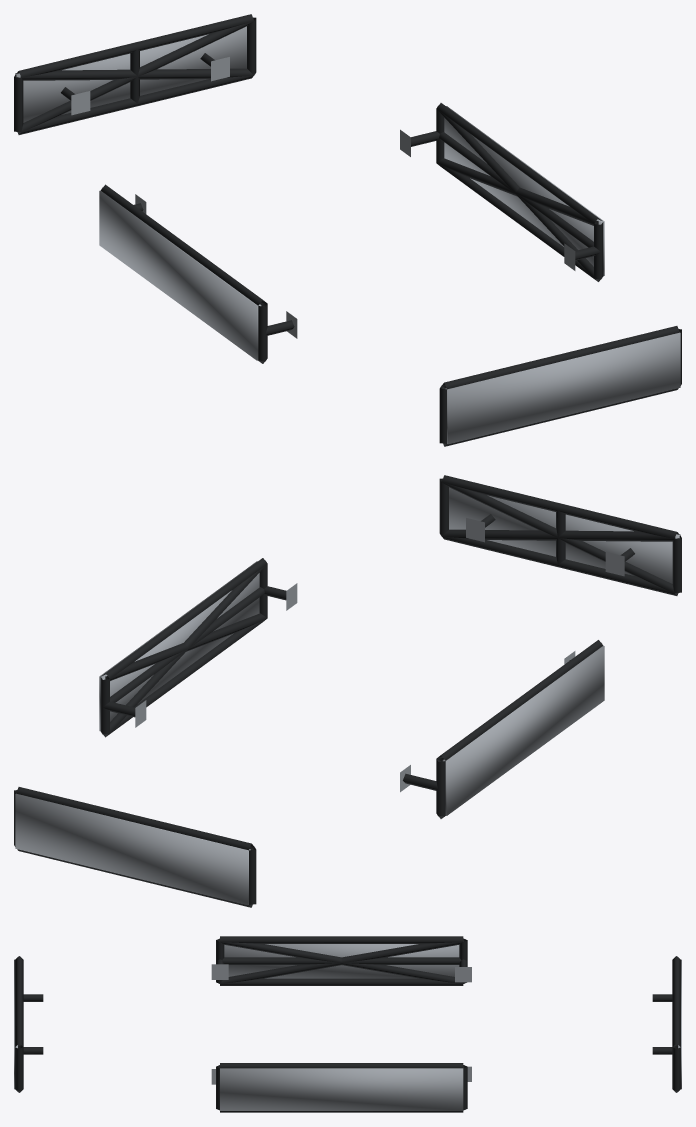
The model's file is hozuki_gaivota_protecao.glb.
3 renders of one model, top to bottom at view 1: azimuth 30°, elevation 25°; view 2: azimuth 150°, elevation 25°; view 3: azimuth 270°, elevation 25°, orthographic. The views are drawn at different scales.
Visible parts, largest first — view 1: Protection_front_Level3_Details, Protection_left_Level3_Details, Protection_rear_Level1_Details, Protection_rear_Level3_Details, Protection_right_Level1_Details, Protection_rear_Level2_Details, Protection_right_Level2_Details, Protection_right_Level3_Details, Protection_front_Level1_Details, Protection_left_Level1_Details; view 2: Protection_rear_Level3_Details, Protection_left_Level3_Details, Protection_front_Level1_Details, Protection_front_Level3_Details, Protection_right_Level1_Details, Protection_front_Level2_Details, Protection_right_Level2_Details, Protection_right_Level3_Details, Protection_rear_Level1_Details, Protection_left_Level1_Details; view 3: Protection_right_Level3_Details, Protection_left_Level2_Details, Protection_left_Level1_Details, Protection_left_Level3_Details, Protection_right_Level1_Details, Protection_rear_Level1_Details, Protection_front_Level1_Details.
Part boxes in pixels (bbox=[...]): Protection_front_Level3_Details: bbox=[445, 332, 680, 444]; Protection_left_Level3_Details: bbox=[99, 190, 261, 360]; Protection_rear_Level1_Details: bbox=[14, 14, 256, 134]; Protection_rear_Level3_Details: bbox=[15, 26, 246, 122]; Protection_right_Level1_Details: bbox=[400, 103, 603, 281]; Protection_rear_Level2_Details: bbox=[16, 21, 253, 133]; Protection_right_Level2_Details: bbox=[436, 109, 601, 281]; Protection_right_Level3_Details: bbox=[444, 106, 604, 276]; Protection_front_Level1_Details: bbox=[439, 326, 681, 446]; Protection_left_Level1_Details: bbox=[101, 184, 297, 363]; Protection_rear_Level3_Details: bbox=[15, 793, 250, 905]; Protection_left_Level3_Details: bbox=[442, 645, 604, 815]; Protection_front_Level1_Details: bbox=[439, 475, 681, 595]; Protection_front_Level3_Details: bbox=[449, 487, 680, 583]; Protection_right_Level1_Details: bbox=[100, 558, 297, 737]; Protection_front_Level2_Details: bbox=[442, 482, 679, 594]; Protection_right_Level2_Details: bbox=[101, 564, 267, 736]; Protection_right_Level3_Details: bbox=[99, 561, 259, 731]; Protection_rear_Level1_Details: bbox=[14, 787, 256, 907]; Protection_left_Level1_Details: bbox=[400, 640, 602, 818]; Protection_right_Level3_Details: bbox=[220, 1068, 463, 1110]; Protection_left_Level2_Details: bbox=[219, 938, 463, 983]; Protection_left_Level1_Details: bbox=[211, 936, 471, 985]; Protection_left_Level3_Details: bbox=[224, 944, 459, 978]; Protection_right_Level1_Details: bbox=[211, 1063, 471, 1112]; Protection_rear_Level1_Details: bbox=[652, 956, 680, 1092]; Protection_front_Level1_Details: bbox=[15, 956, 43, 1092].
Size of the model in its own units: 2 by 0.354 by 4.31.
1 material, 1 textured.
